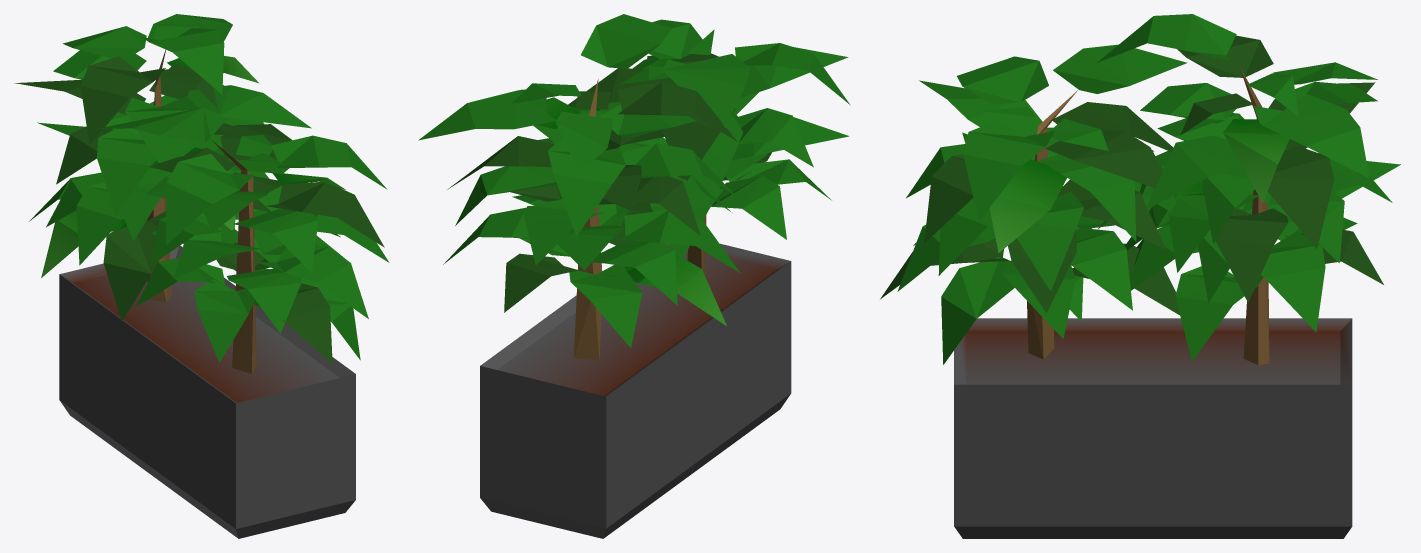
Rendered from plante.glb.
The picture shows the model from 3 angles, left to right: view 1: azimuth 30°, elevation 25°; view 2: azimuth 150°, elevation 25°; view 3: azimuth 270°, elevation 25°; orthographic projection. The views are drawn at different scales.
Parts seen in each view (by area): view 1: 17.10.Model_Cube.206; view 2: 17.10.Model_Cube.206; view 3: 17.10.Model_Cube.206.
Part boxes in pixels (x1,y1,x2,y2): 17.10.Model_Cube.206: (14,14,389,538); 17.10.Model_Cube.206: (418,14,850,538); 17.10.Model_Cube.206: (880,14,1400,538).
Size of the model in its own units: 1.01 by 1.62 by 1.63.
